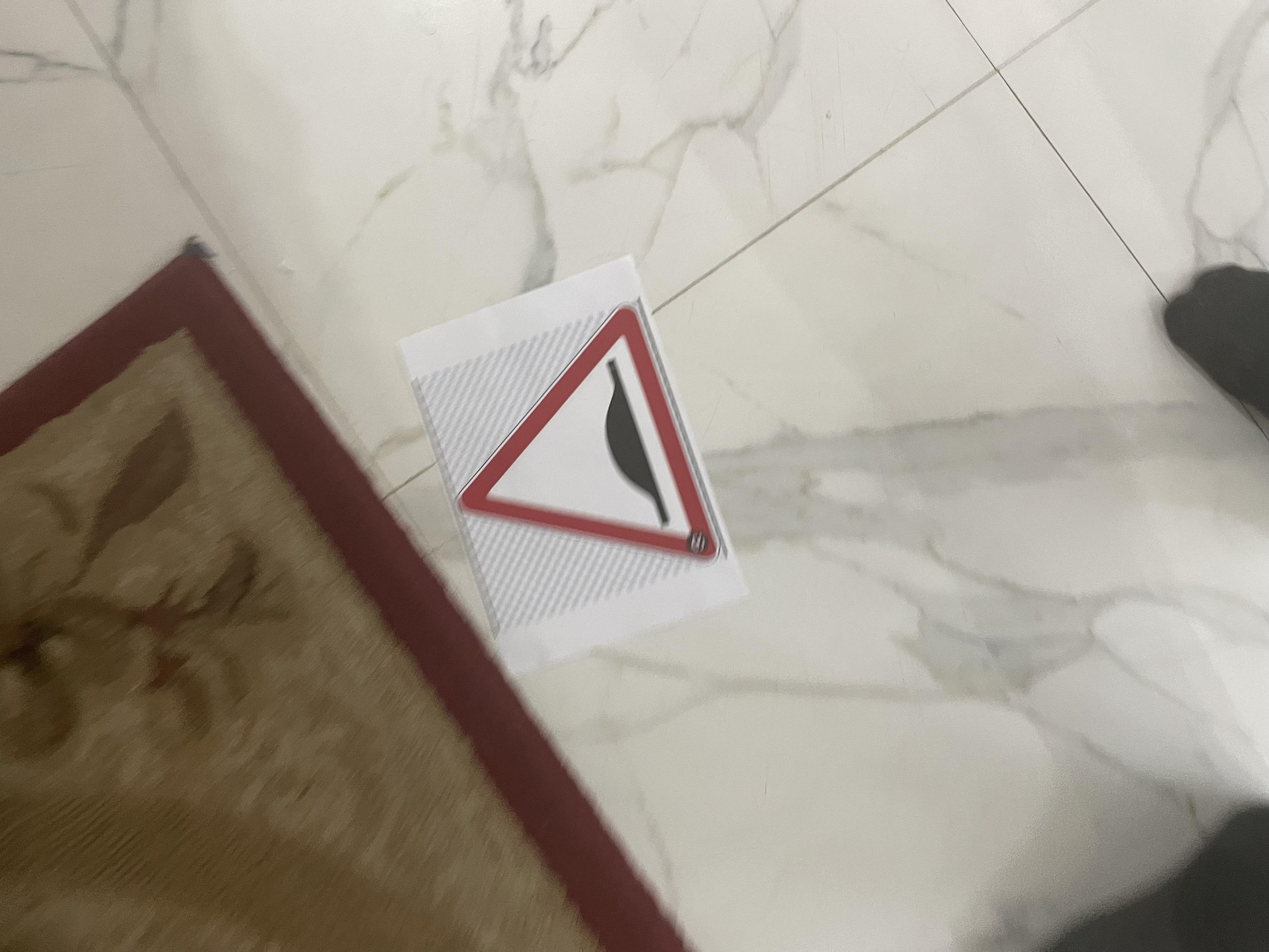Hump: (509, 340, 874, 549)
